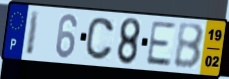6: (54, 12, 79, 60)
8: (116, 17, 142, 67)
B: (172, 22, 205, 71)
C: (84, 16, 116, 62)
E: (144, 19, 177, 68)
I: (24, 9, 41, 57)
